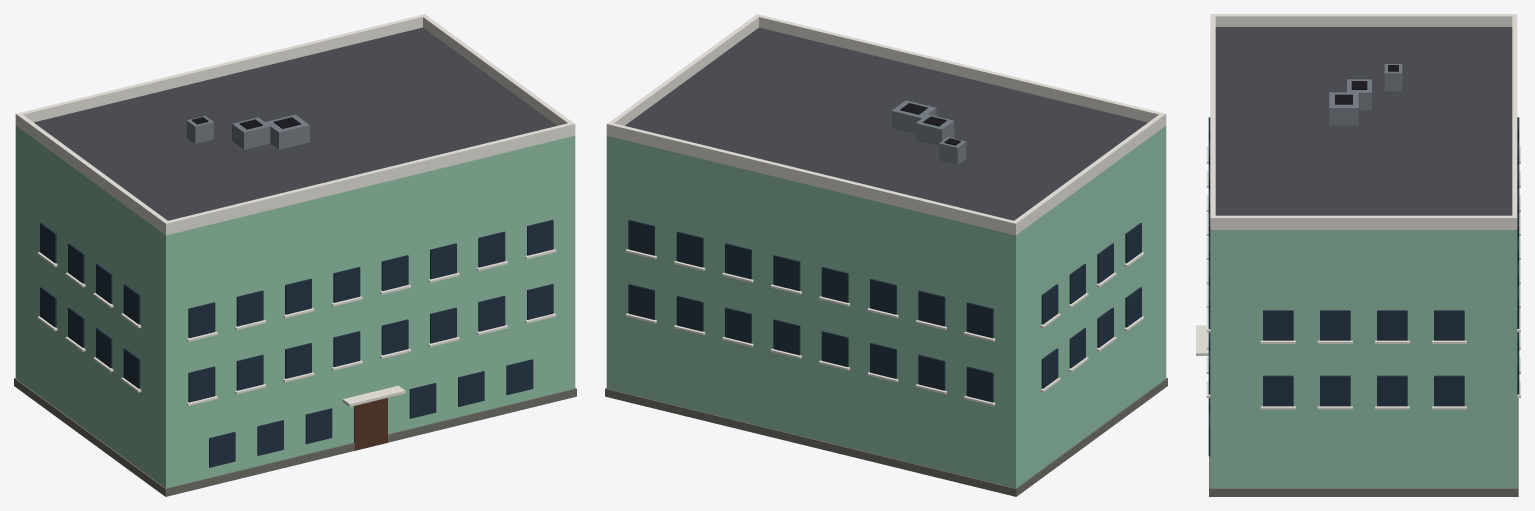
Rendered from apartment_c.glb.
The picture shows the model from 3 angles, left to right: view 1: azimuth 30°, elevation 25°; view 2: azimuth 150°, elevation 25°; view 3: azimuth 270°, elevation 25°; orthographic projection. The views are drawn at different scales.
Visible parts, largest first — view 1: apartment_c_Body; view 2: apartment_c_Body; view 3: apartment_c_Body.
Boxes of the visible parts, box(x1,y1,x2,y2) form: apartment_c_Body: box(14, 14, 576, 496); apartment_c_Body: box(605, 14, 1167, 496); apartment_c_Body: box(1196, 14, 1520, 496).
Size of the model in its own units: 22.32 by 14.39 by 14.81.
